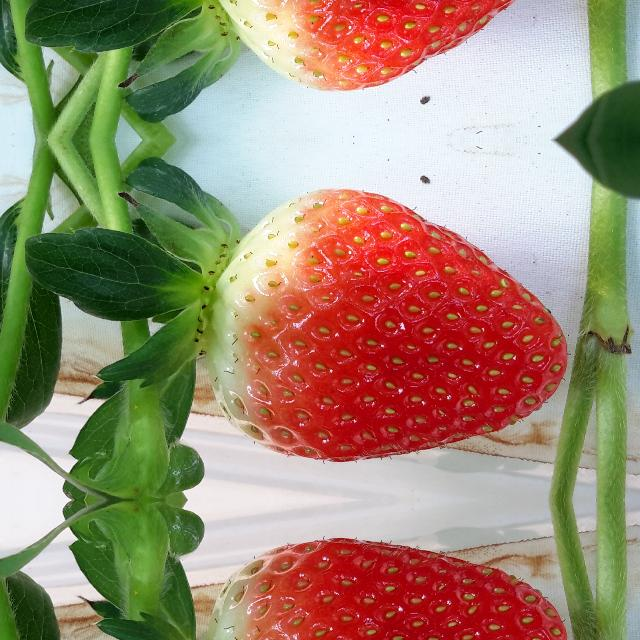Health_100: (200, 188, 570, 462), (200, 538, 569, 640), (200, 0, 569, 92)
